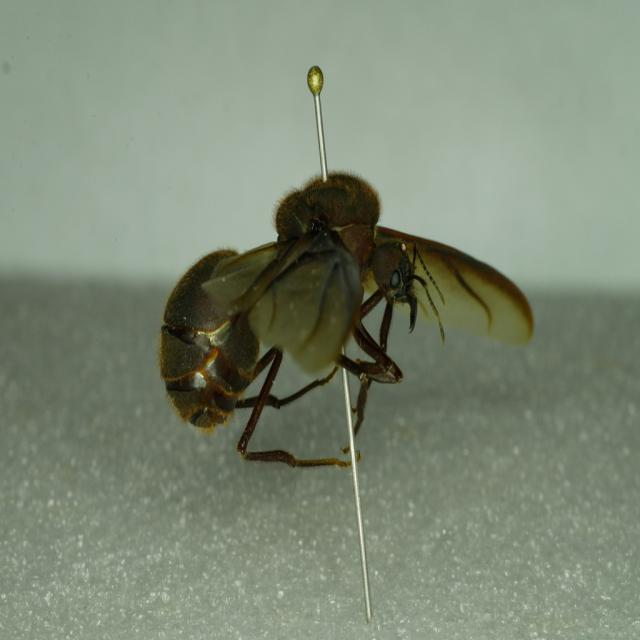Dead-Female-Alate: (160, 170, 534, 475)
